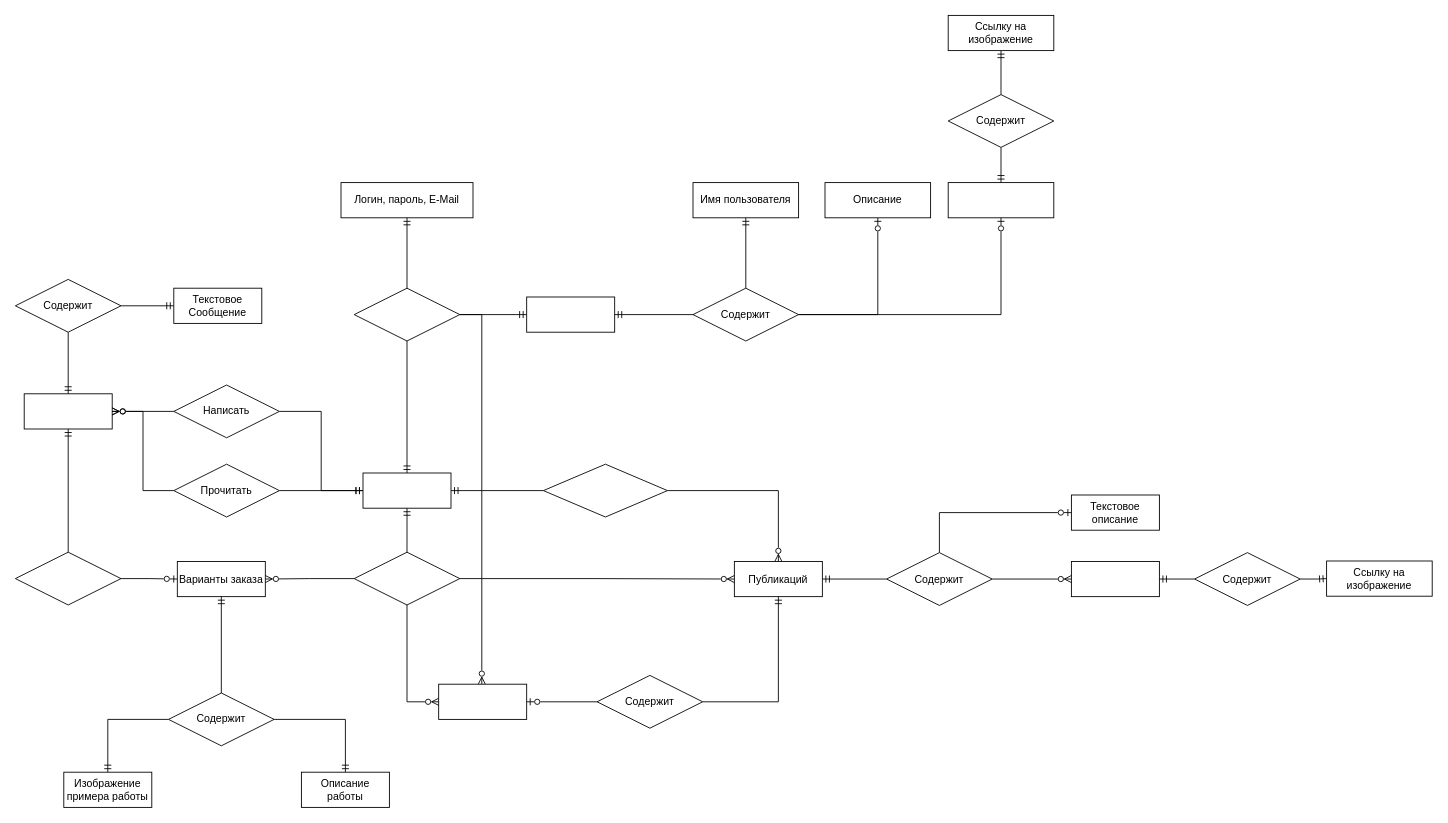
Some shapes in this 1448 by 823 pixel diagram are drawn without their labels. Here are the shapes that lost their labels. From the top down, the centre of each, then its label:
(1000,200): Аватар
(406,314): Имеет
(570,314): Профиль
(67,411): Сообщение
(406,490): Пользователь
(605,490): Просматривает
(68,578): Прикрепляет
(406,578): Создаёт
(1115,579): Фотографию
(482,701): Уровень подписки
